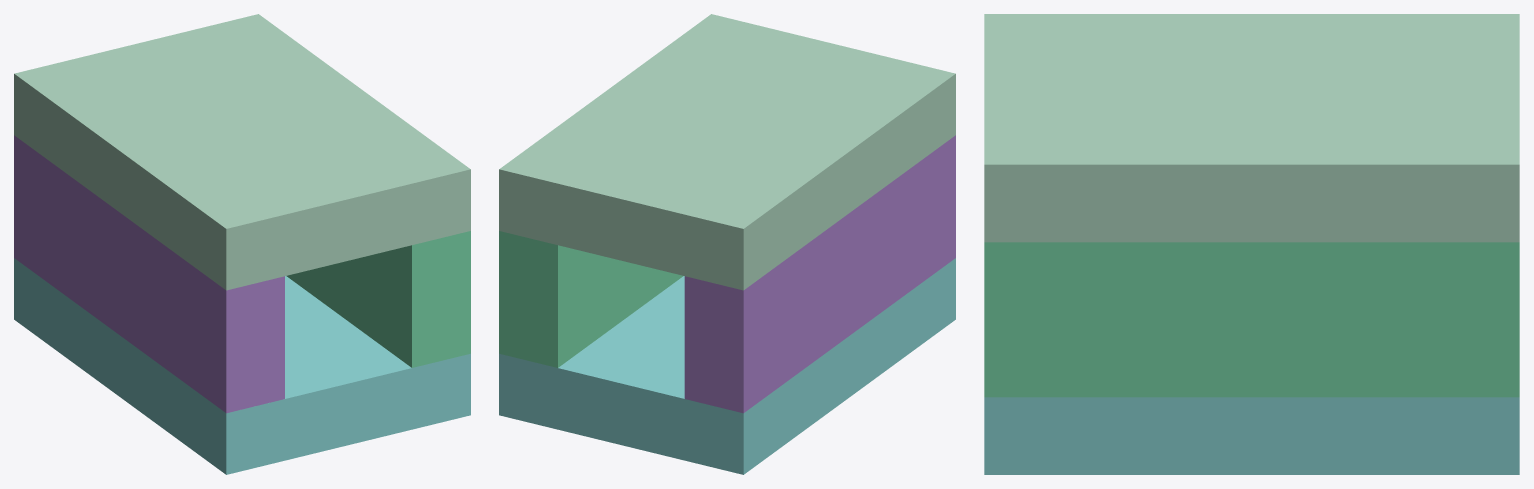
Rendered from one_leg.obj.
3 views of the same model, side by side, from view 1: azimuth 30°, elevation 25°; view 2: azimuth 150°, elevation 25°; view 3: azimuth 270°, elevation 25° (orthographic). The views are drawn at different scales.
Visible parts, largest first — view 1: geometry_0, geometry_2, geometry_1, geometry_3; view 2: geometry_0, geometry_2, geometry_1, geometry_3; view 3: geometry_0, geometry_3, geometry_2.
Part boxes in pixels (left/top/right/bottom): geometry_0: left=14, top=14, right=470, bottom=290; geometry_2: left=14, top=258, right=470, bottom=474; geometry_1: left=14, top=135, right=284, bottom=413; geometry_3: left=286, top=231, right=470, bottom=367; geometry_0: left=499, top=14, right=955, bottom=290; geometry_2: left=499, top=258, right=955, bottom=474; geometry_1: left=684, top=135, right=955, bottom=413; geometry_3: left=499, top=231, right=683, bottom=367; geometry_0: left=984, top=14, right=1519, bottom=242; geometry_3: left=984, top=242, right=1519, bottom=397; geometry_2: left=984, top=397, right=1519, bottom=474.
Bounding box in the file's own units: 0.0312 × 0.03 × 0.0469.
